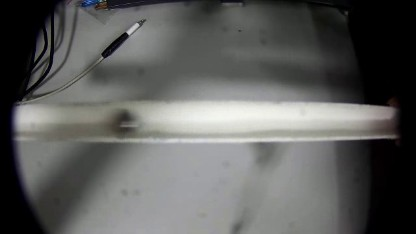gangzhu: (108, 107, 138, 136)
